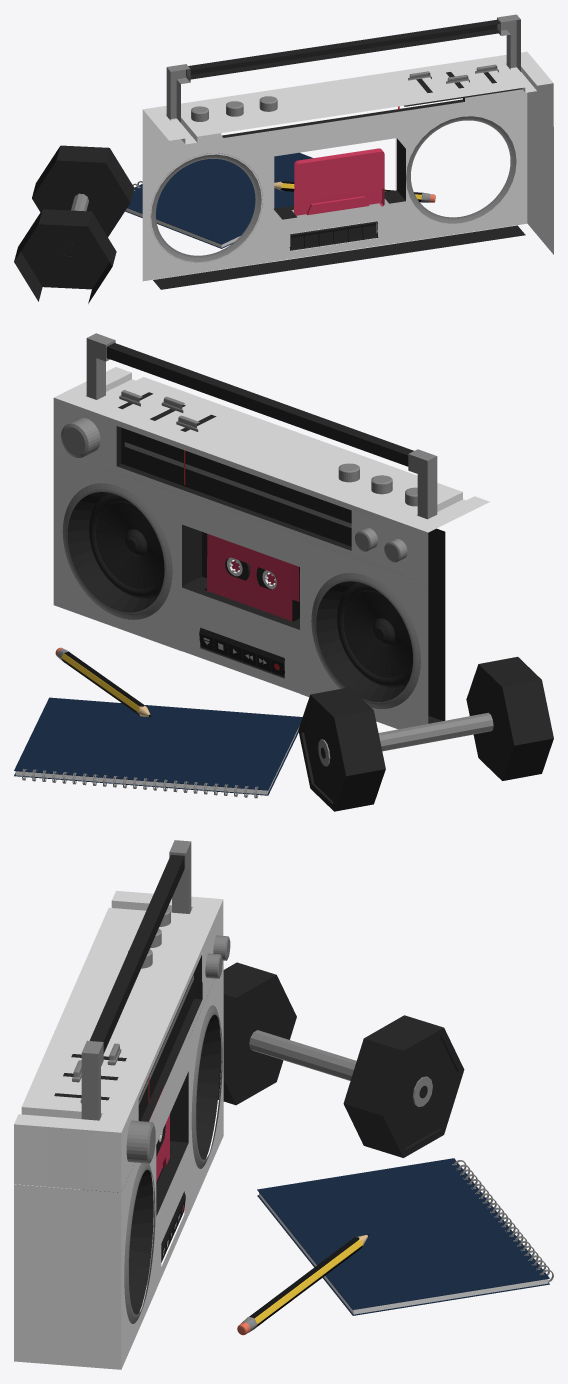
File: About_Me_Models_3.glb
3 renders of one model, top to bottom at view 1: azimuth 30°, elevation 25°; view 2: azimuth 150°, elevation 25°; view 3: azimuth 270°, elevation 25°, orthographic. The views are drawn at different scales.
Visible parts, largest first — view 1: BottomPart; view 2: BottomPart, Circle.002, Circle.003, Bar; view 3: BottomPart, Circle.002, Circle.003, Bar.
Boxes of the visible parts, x1,y1,x2,y2 form: BottomPart: (14, 14, 553, 303); BottomPart: (14, 333, 553, 811); Circle.002: (67, 492, 164, 612); Circle.003: (316, 581, 412, 701); Bar: (378, 712, 493, 751); BottomPart: (14, 840, 553, 1369); Circle.002: (113, 1169, 153, 1314); Circle.003: (174, 1014, 220, 1159); Bar: (249, 1030, 356, 1080).
Size of the model in its own units: 5.62 by 2.55 by 4.11.
